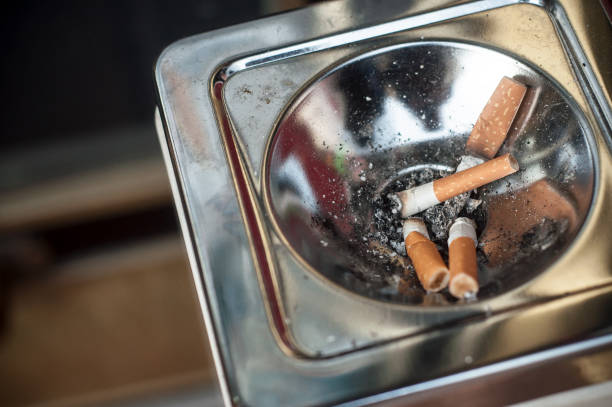cigarette: (388, 152, 521, 218), (455, 77, 530, 175), (402, 215, 450, 294), (448, 217, 479, 300)
